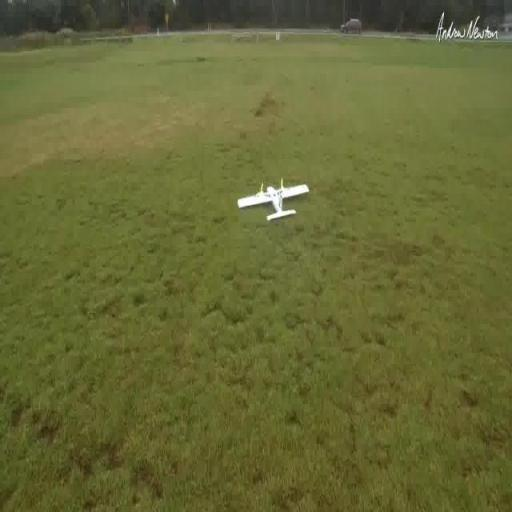uav: (232, 176, 314, 237)
